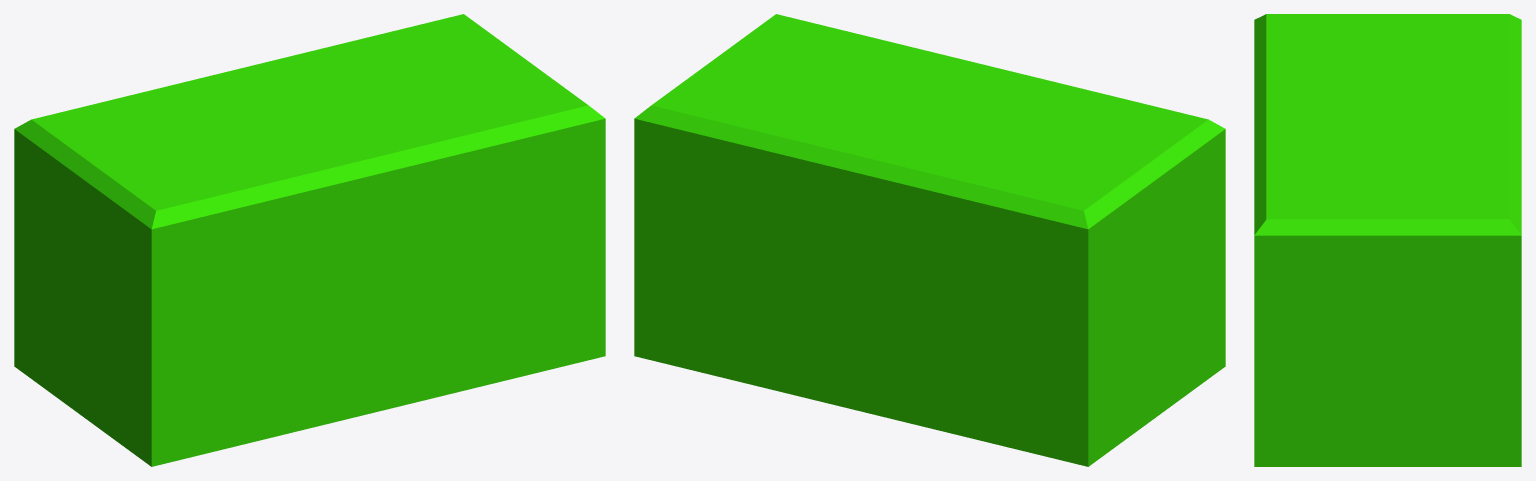
Rendered from basic_2x1.fbx.
The picture shows the model from 3 angles, left to right: view 1: azimuth 30°, elevation 25°; view 2: azimuth 150°, elevation 25°; view 3: azimuth 270°, elevation 25°; orthographic projection. The views are drawn at different scales.
Visible parts, largest first — view 1: basic_2x1; view 2: basic_2x1; view 3: basic_2x1.
Part boxes in pixels (box(x1,y1,x2,y2)): basic_2x1: box(14, 14, 605, 466); basic_2x1: box(634, 14, 1225, 466); basic_2x1: box(1254, 14, 1521, 466).
Bounding box in the file's own units: 210 × 110 × 110.
